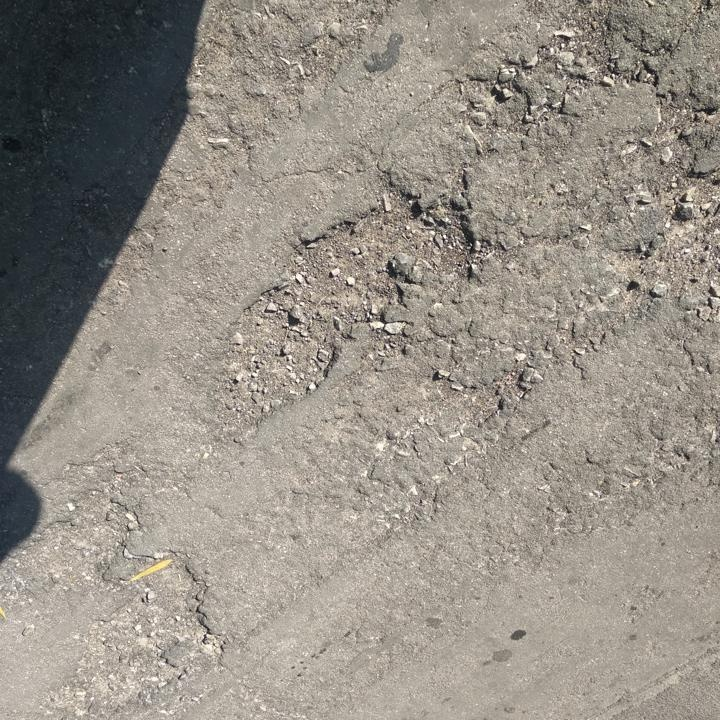pothole: (36, 554, 229, 719), (276, 178, 487, 325), (196, 292, 349, 432), (26, 488, 139, 590)
